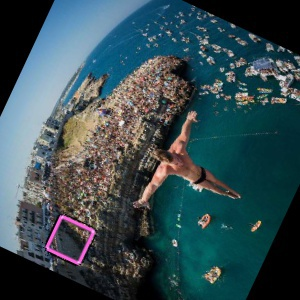square: (43, 212, 98, 268)
